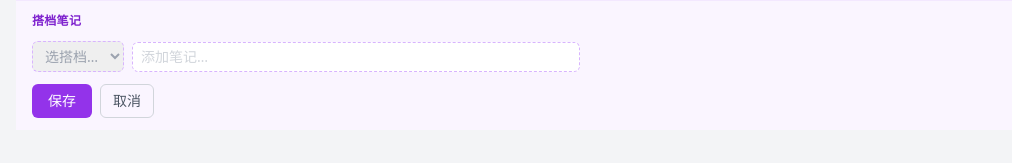
PlayerPartnerNotesRow › shows error message on save failure
Select "李四" in the dropdown at [78, 56], box [32, 41, 124, 72]
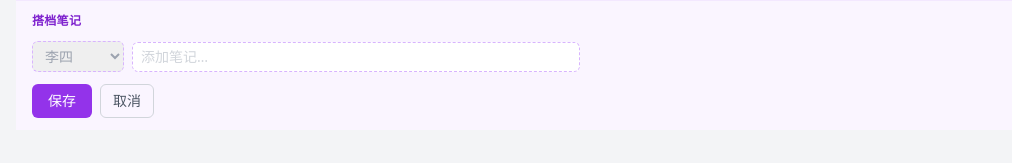
Type "好搭档" into the field with placeholder "添加笔记…".
click(356, 56); type("好搭档")  # box [132, 42, 580, 72]
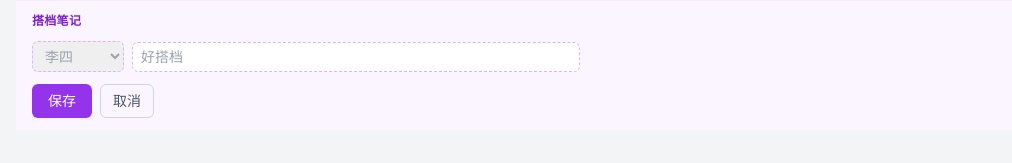
Click the button "保存".
click(62, 101)  # box [32, 84, 92, 118]
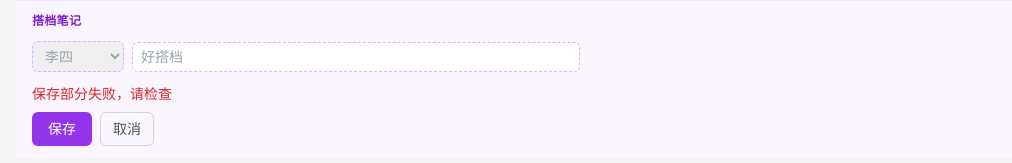
Expected: the text "保存部分失败" is shown, [32, 84, 172, 103]
